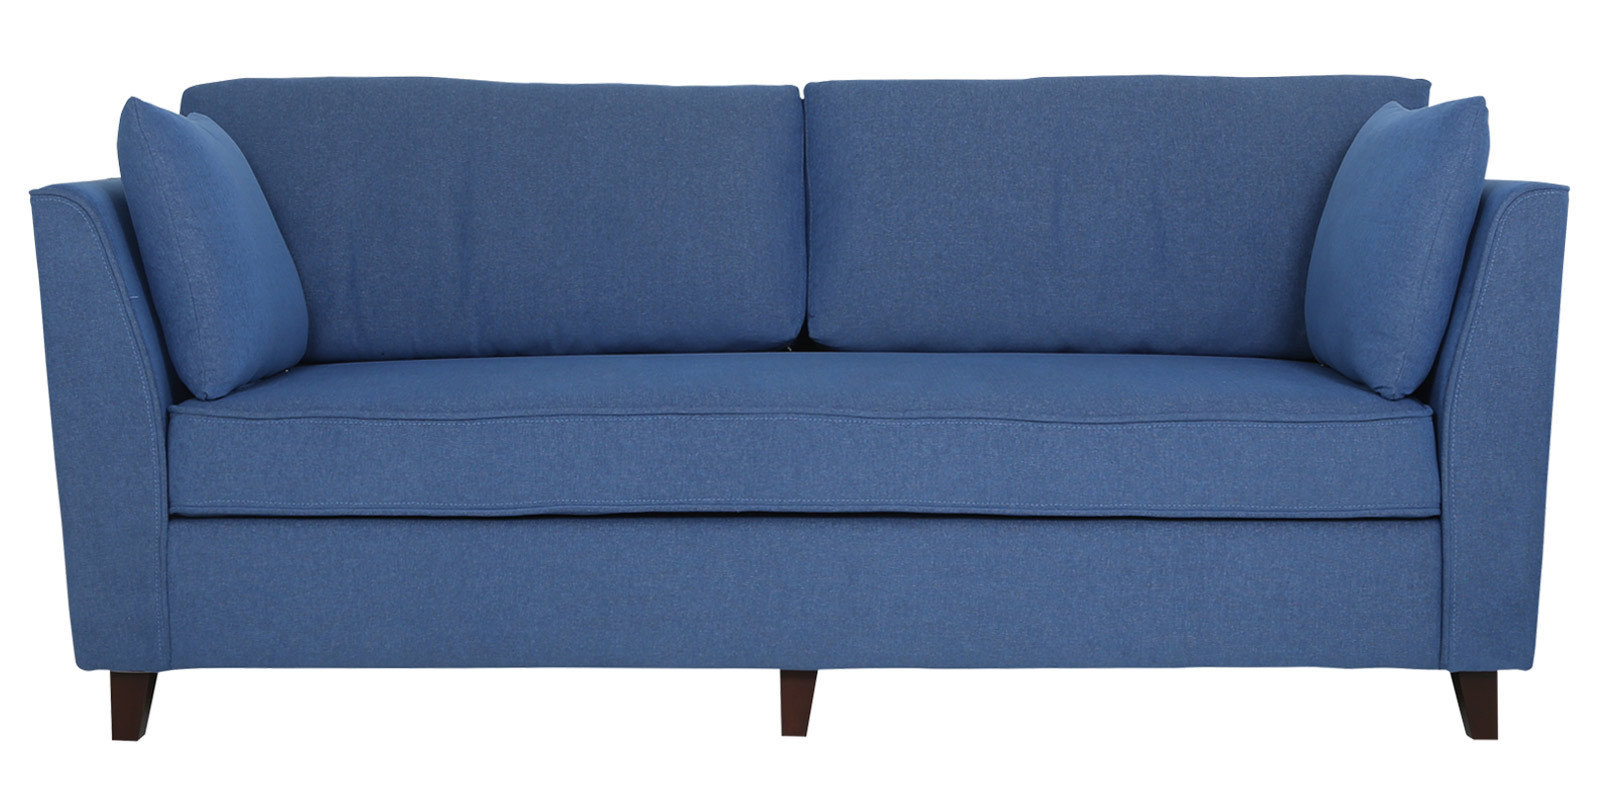Miranda Three Seater Sofa in Denim Blue Colour by CasaCraft: (28, 72, 1572, 741)
